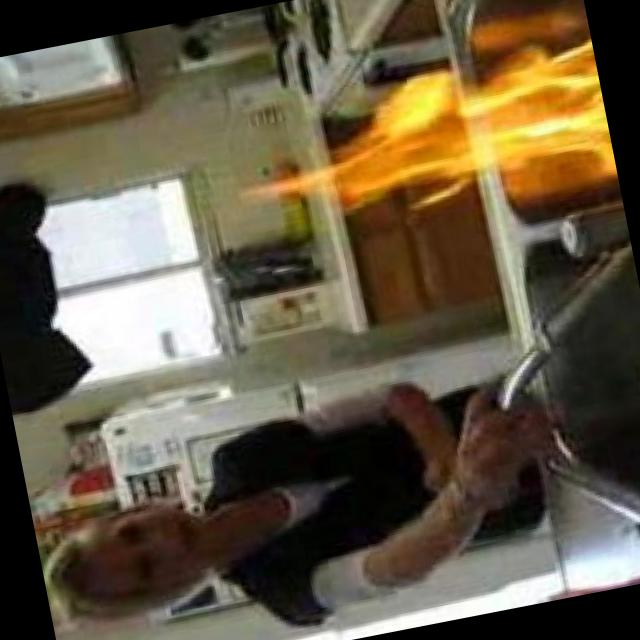Fire: (247, 35, 619, 246)
